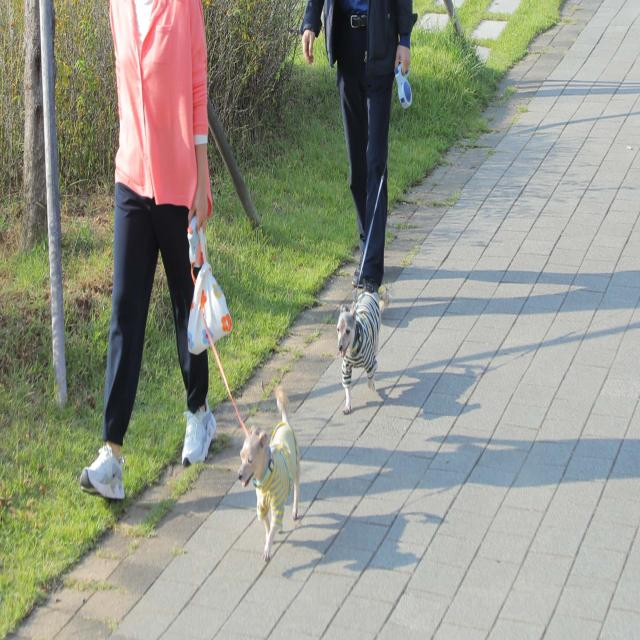Leashed_Dog: (177, 192, 300, 564), (337, 20, 410, 415)
